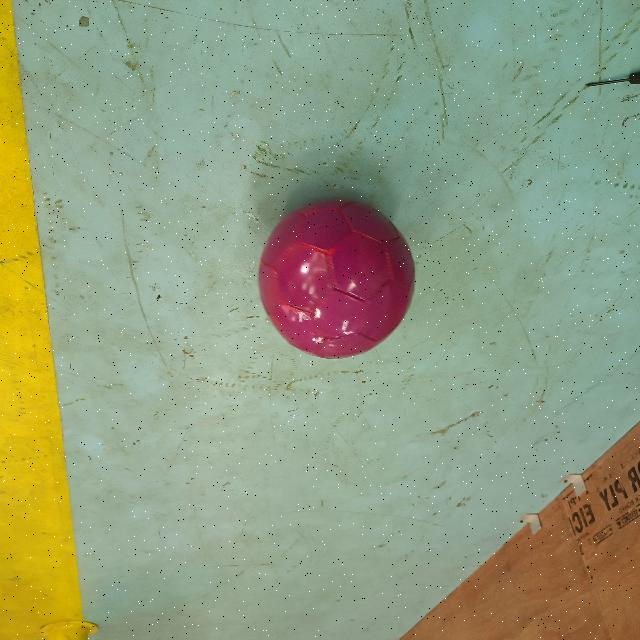P: (254, 192, 421, 364)
